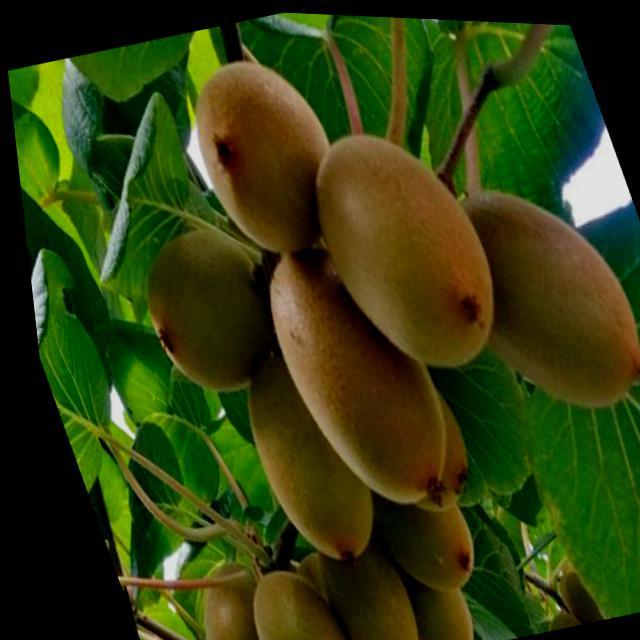kiwi: (235, 221, 471, 534), (402, 151, 640, 434), (285, 105, 517, 388), (167, 42, 362, 267), (216, 338, 381, 573), (114, 208, 295, 405), (345, 465, 479, 604), (291, 521, 415, 640), (220, 555, 340, 640), (163, 552, 277, 640)
